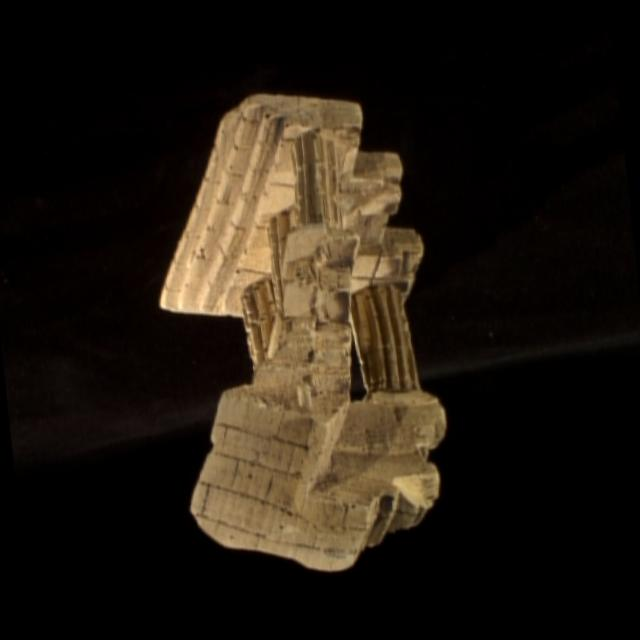Instance-Segmentation: (161, 94, 445, 568)
